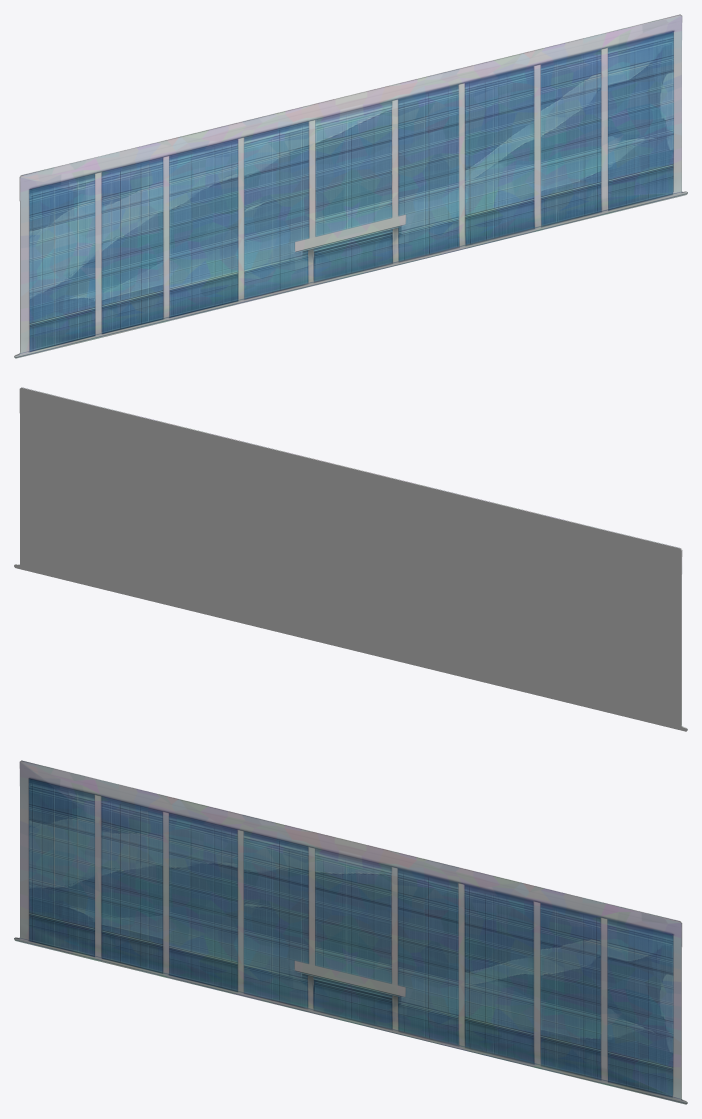
File: Fun_biled_holo.glb
3 views of the same model, one above another, from view 1: azimuth 30°, elevation 25°; view 2: azimuth 150°, elevation 25°; view 3: azimuth 330°, elevation 25° (orthographic).
Parts seen in each view (by area): view 1: Plane.001, Plane.002, Plane; view 2: Plane; view 3: Plane.001, Plane.002, Plane.
Part boxes in pixels (bbox=[...]): Plane.001: bbox=[14, 14, 687, 358]; Plane.002: bbox=[14, 15, 687, 358]; Plane: bbox=[14, 14, 686, 357]; Plane: bbox=[14, 387, 687, 731]; Plane.001: bbox=[14, 760, 687, 1104]; Plane.002: bbox=[14, 761, 687, 1104]; Plane: bbox=[15, 760, 687, 1103].
Bounding box in the file's own units: 2.95 × 0.7616 × 0.0101.
Materials: 2 (2 with a texture image).
